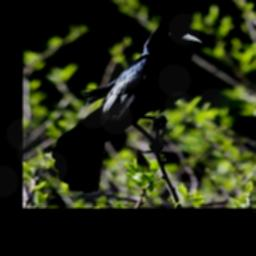Crow: (53, 19, 204, 191)
